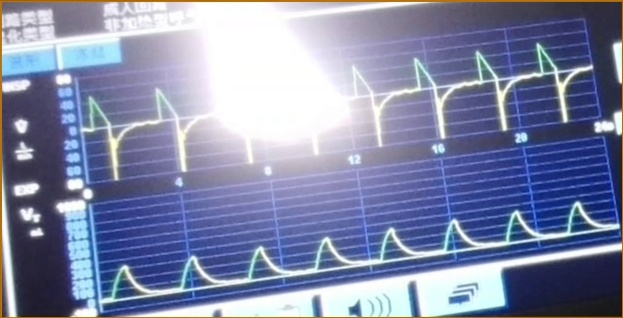Normal Flow: (85, 39, 592, 179)
Normal Volume: (106, 200, 618, 303)
